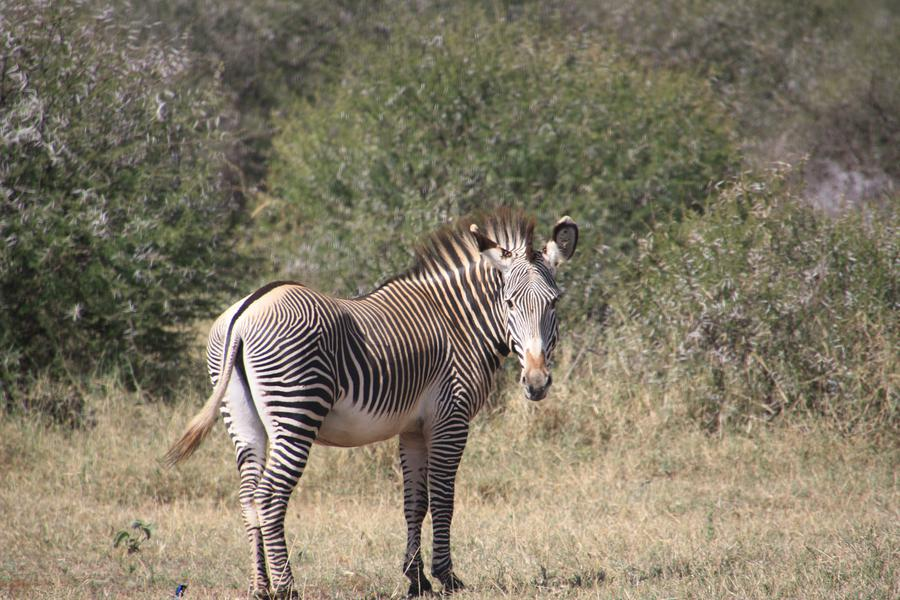zebra_grevys: (225, 281, 479, 419)
